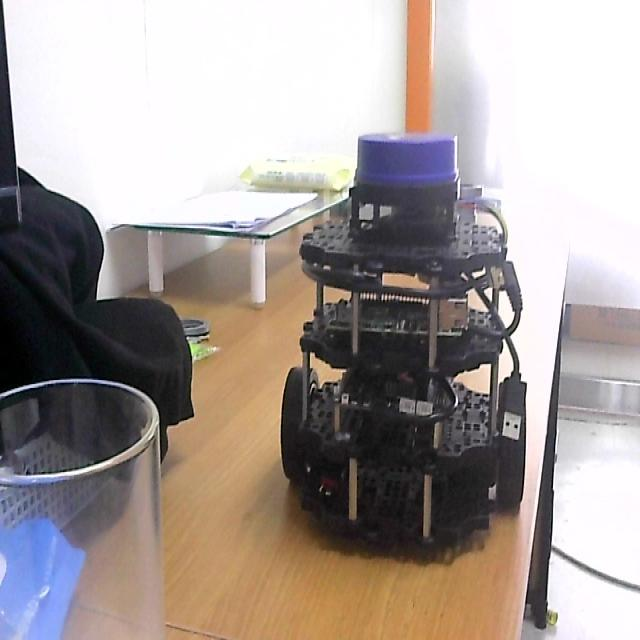turtle: (279, 130, 529, 559)
